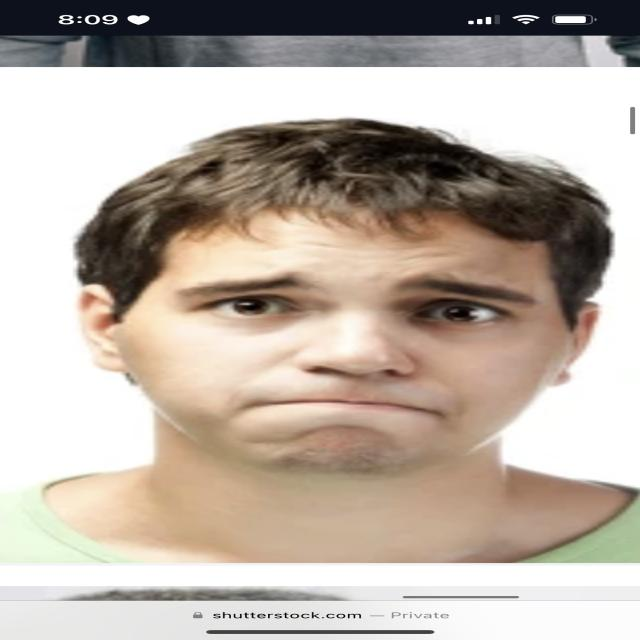sad: (60, 111, 596, 486)
